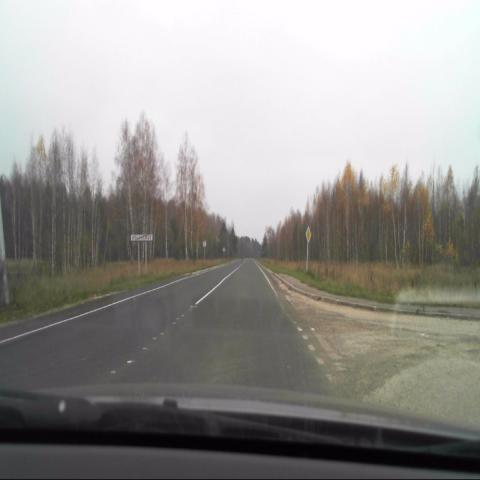2_1: (304, 225, 312, 243)
